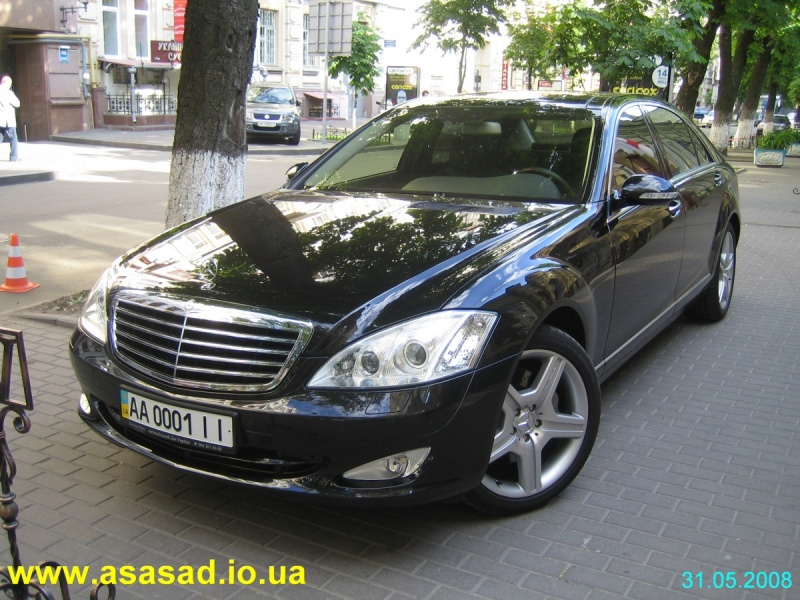car: (68, 89, 741, 522)
plate: (118, 385, 233, 452)
